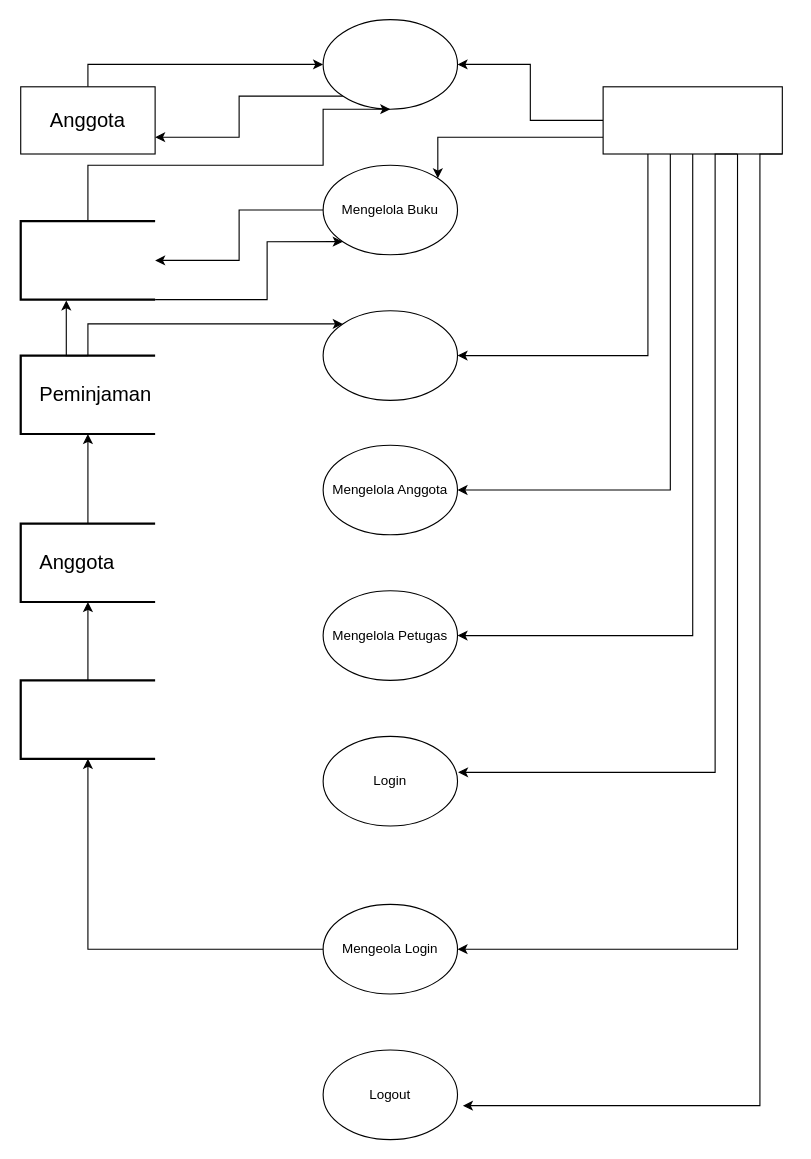
This 811x1159 diagram has some shape labels left out. The centre of each missing label's shape, as x and y in pixels:
Buku: the point at 87,260
Mencai Buku: the point at 390,63
Mengelola Peminjaman: the point at 390,355
Petugas: the point at 87,719
Petugas Perpus: the point at 692,120
